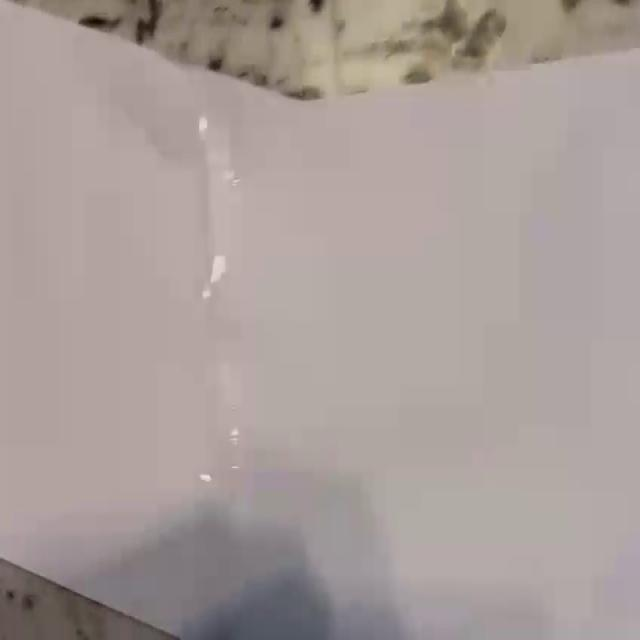road: (0, 2, 640, 638)
